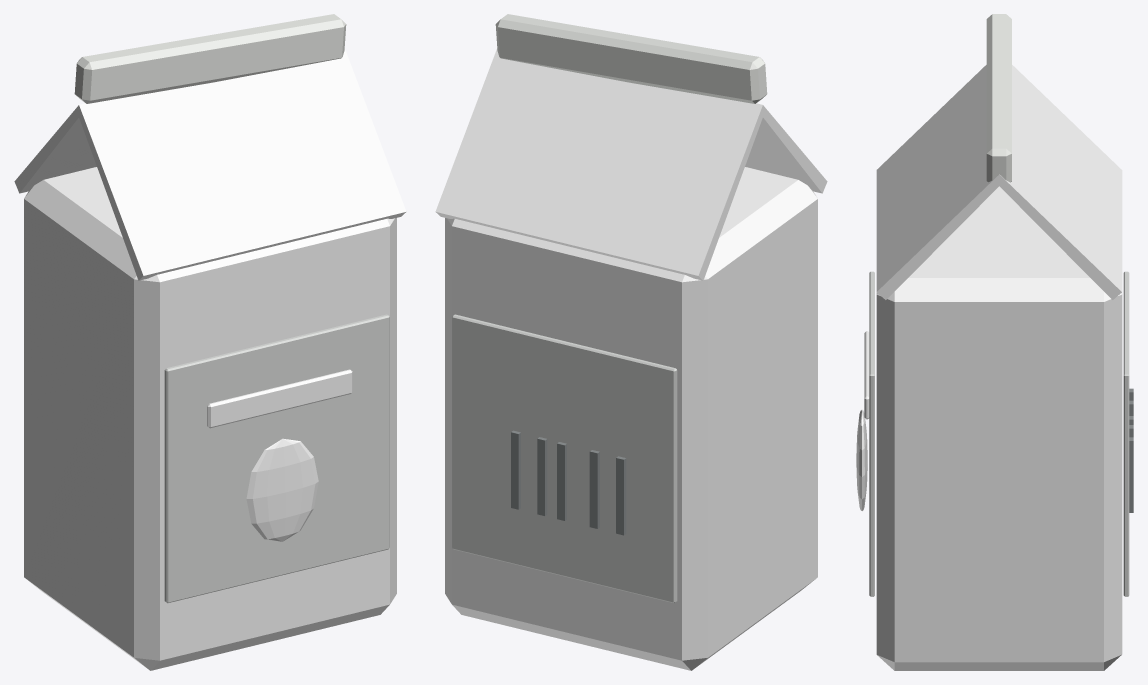
The model's file is Paper_MilkCarton.fbx.
3 views of the same model, side by side, from view 1: azimuth 30°, elevation 25°; view 2: azimuth 150°, elevation 25°; view 3: azimuth 270°, elevation 25° (orthographic). The views are drawn at different scales.
Parts seen in each view (by area): view 1: Paper_MilkCarton; view 2: Paper_MilkCarton; view 3: Paper_MilkCarton.
Part boxes in pixels (x1,y1,x2,y2): Paper_MilkCarton: (14,14,406,670); Paper_MilkCarton: (435,14,827,670); Paper_MilkCarton: (856,14,1133,670).
Size of the model in its own units: 50.66 by 105 by 48.38.
